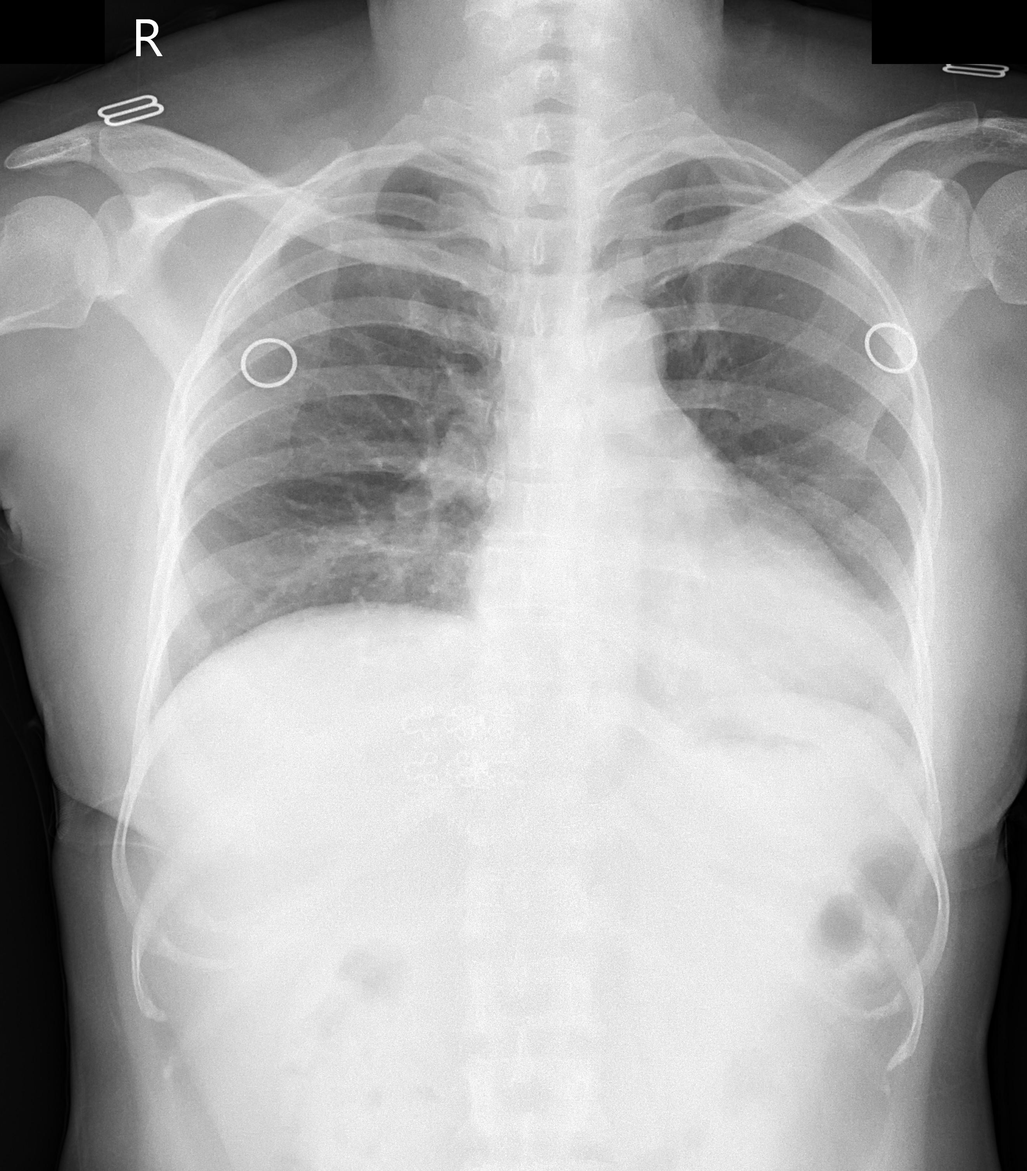Cardiomegaly: (450, 531, 905, 677)
